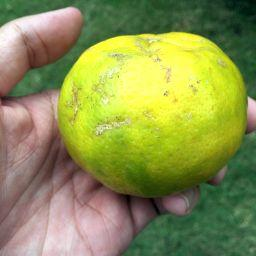Unripe: (59, 33, 247, 195)
